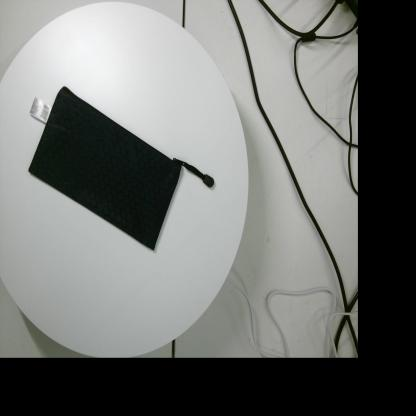Stationery: (29, 86, 214, 251)
